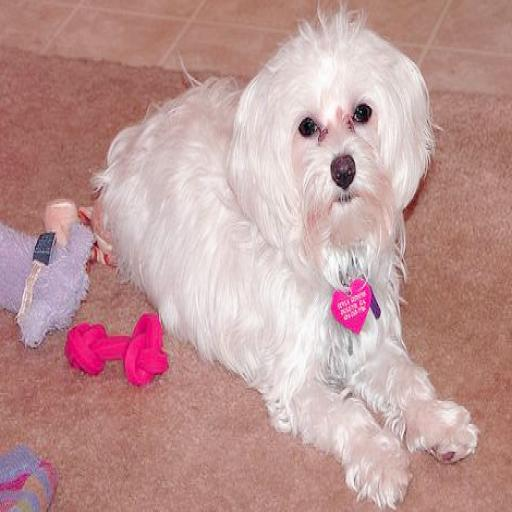dog_face: (237, 22, 420, 257)
